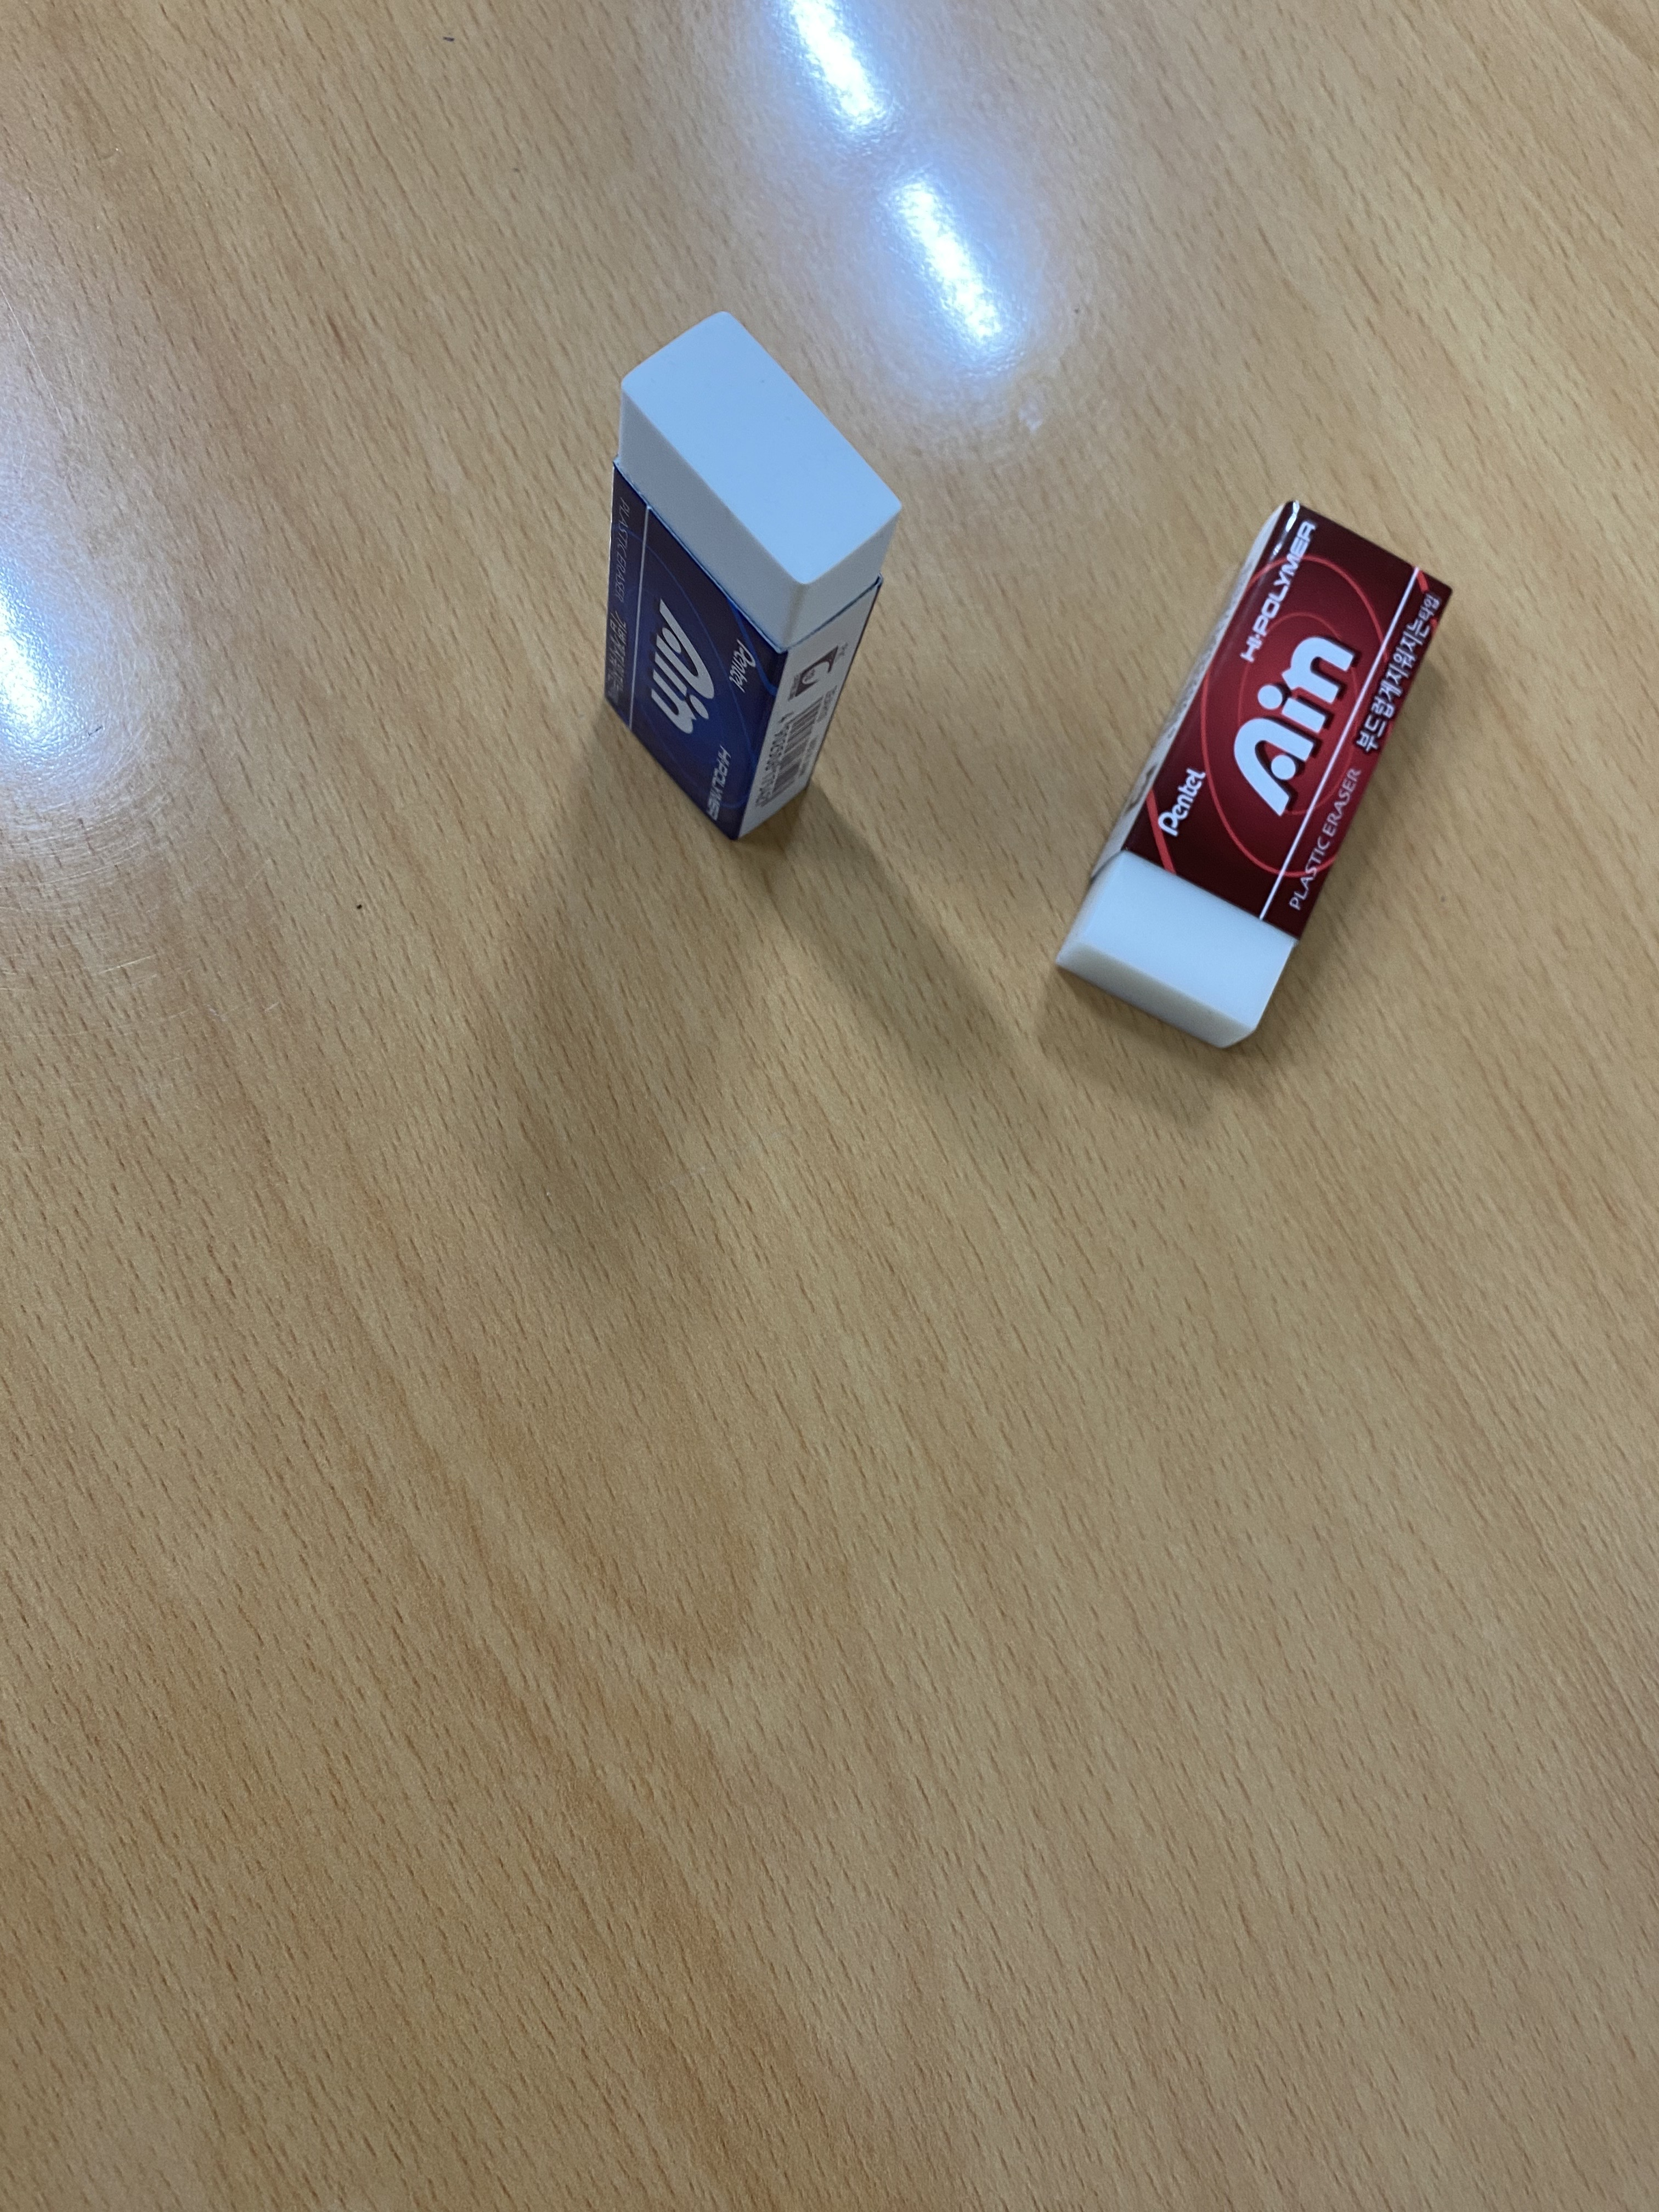blue: (596, 291, 913, 860)
red: (1053, 482, 1460, 1062)
